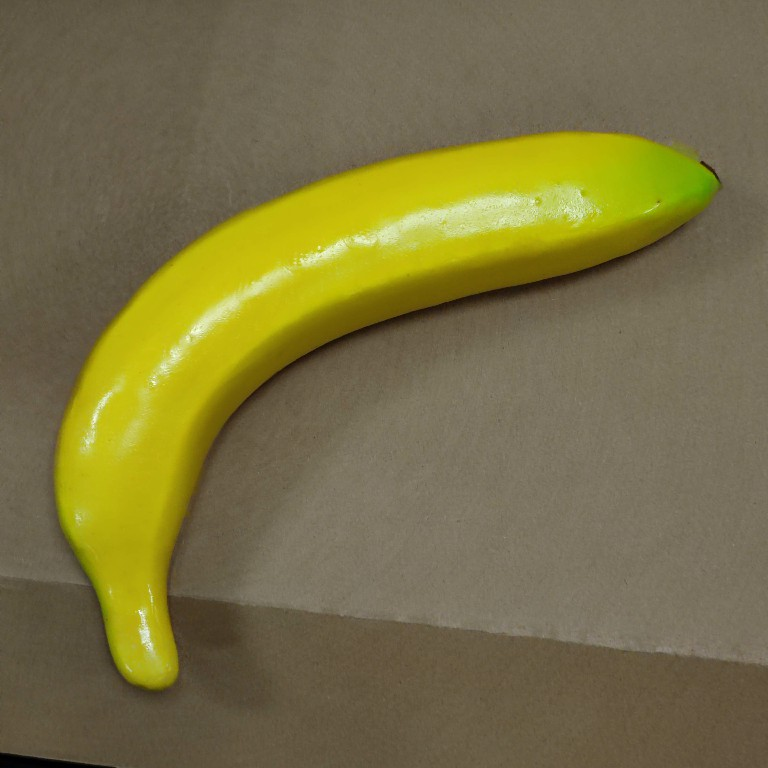fruit_banana: (44, 125, 728, 694)
